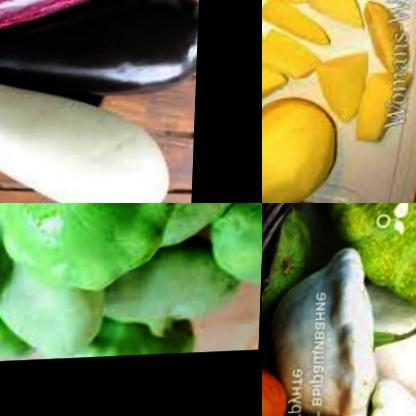eggplant: (0, 89, 198, 193), (0, 0, 201, 85)
potato: (262, 0, 416, 137), (262, 84, 352, 203)
squash-patisson: (274, 246, 414, 416), (0, 203, 186, 305), (99, 234, 262, 341), (0, 245, 122, 361), (325, 203, 416, 320), (120, 203, 261, 262), (262, 206, 321, 325), (206, 203, 262, 294)
